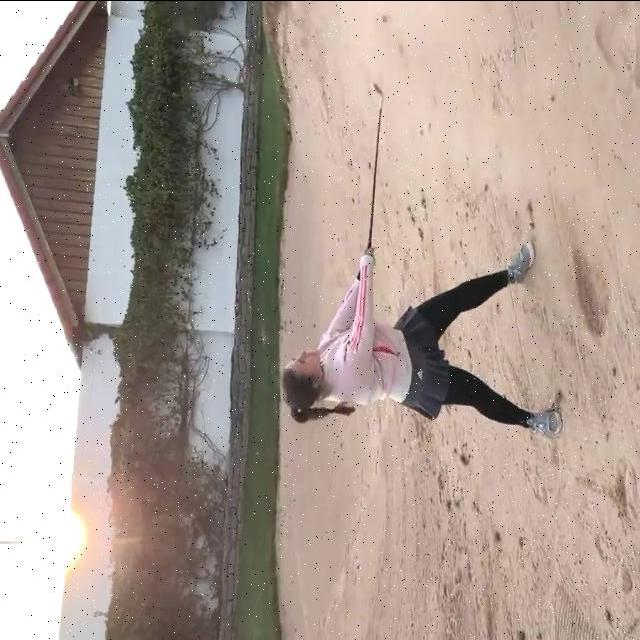golf club-handle: (368, 82, 388, 258)
golf club-head: (372, 84, 387, 97)
